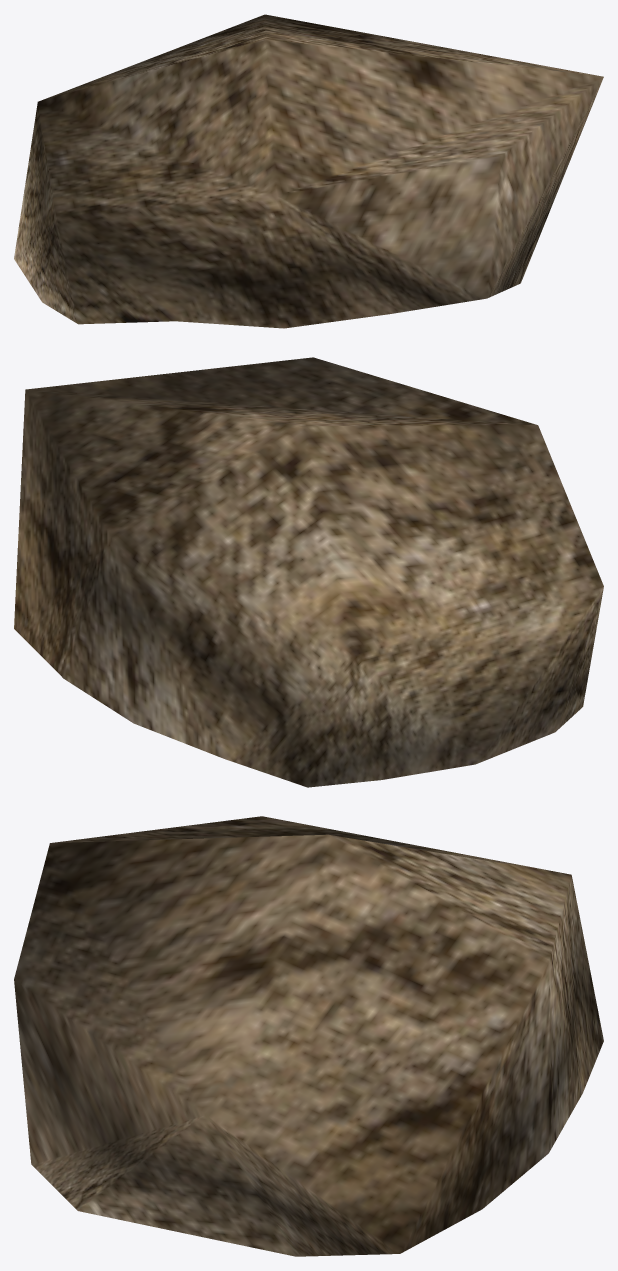
The model's file is stone6_tex1.fbx.
3 renders of one model, top to bottom at view 1: azimuth 30°, elevation 25°; view 2: azimuth 150°, elevation 25°; view 3: azimuth 270°, elevation 25°, orthographic. The views are drawn at different scales.
Parts seen in each view (by area): view 1: stone6_tex1; view 2: stone6_tex1; view 3: stone6_tex1.
Boxes of the visible parts, left/top/right/bottom form: stone6_tex1: left=14, top=14, right=603, bottom=328; stone6_tex1: left=14, top=357, right=603, bottom=787; stone6_tex1: left=14, top=816, right=603, bottom=1256.
Size of the model in its own units: 0.3651 by 0.1418 by 0.2721.
Materials: 1 (1 with a texture image).
